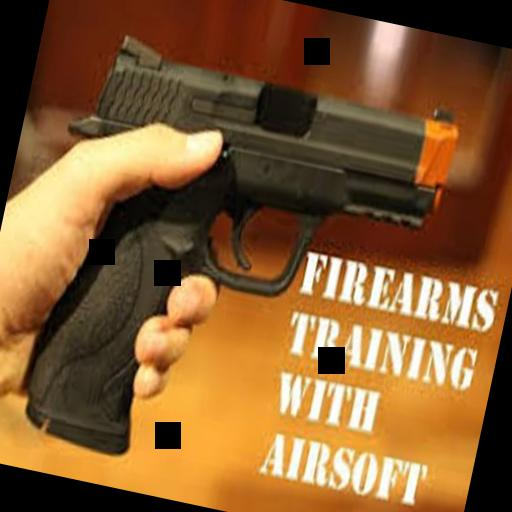Handgun: (4, 17, 462, 494)
